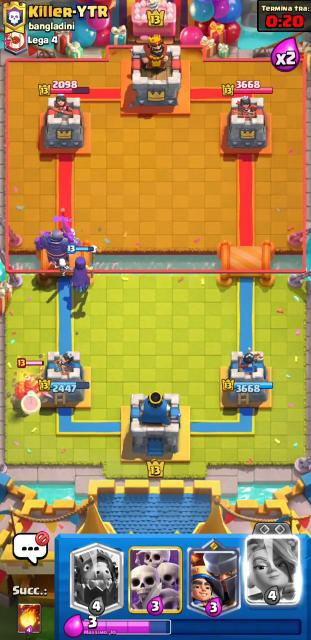ally_melee: (36, 227, 76, 274), (66, 242, 96, 293), (51, 256, 72, 277)
enemy_melee: (14, 358, 53, 403)
